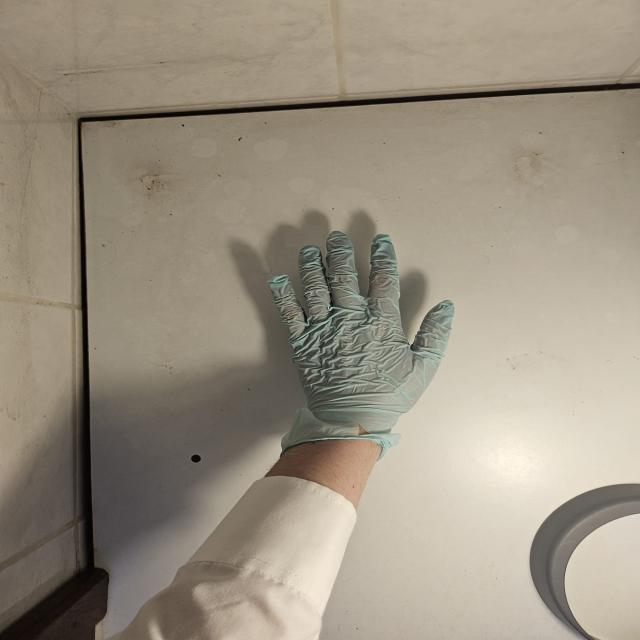gloves_damaged: (266, 228, 458, 459)
